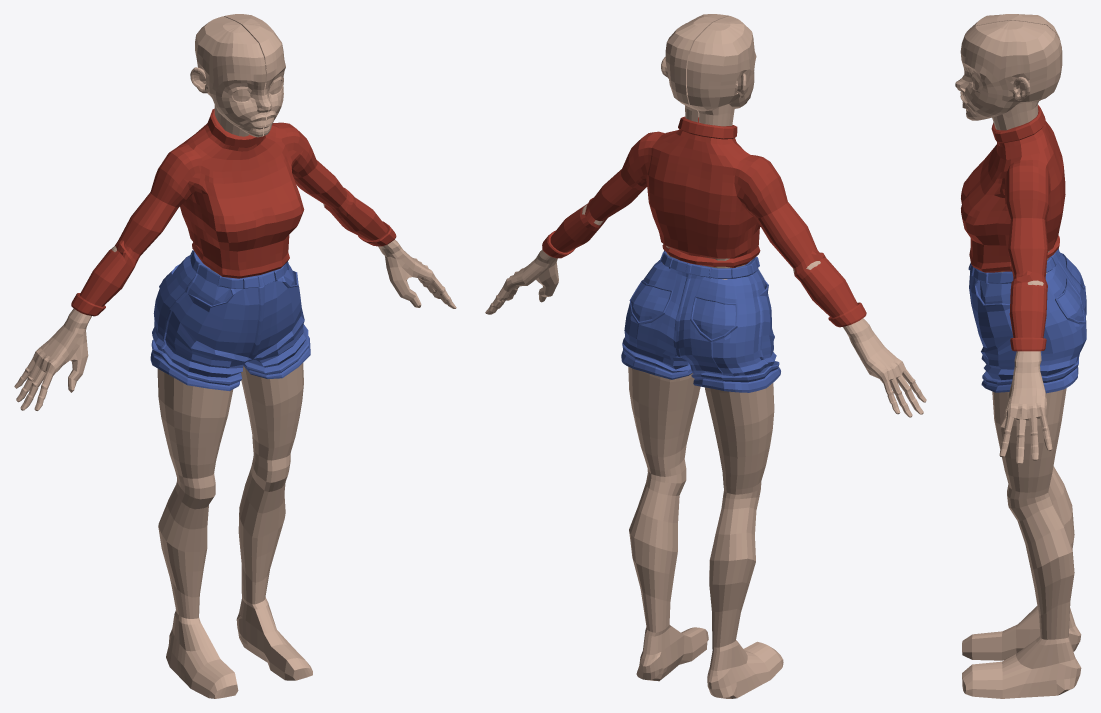
File: Zi_halv.fbx
3 renders of one model, left to right at view 1: azimuth 30°, elevation 25°; view 2: azimuth 150°, elevation 25°; view 3: azimuth 270°, elevation 25°, orthographic.
Visible parts, largest first — view 1: temp; view 2: temp; view 3: temp.
Part boxes in pixels (bbox=[...]): temp: bbox=[14, 14, 456, 698]; temp: bbox=[485, 14, 926, 698]; temp: bbox=[955, 14, 1086, 698].
Size of the model in its own units: 305 by 438 by 80.02.
